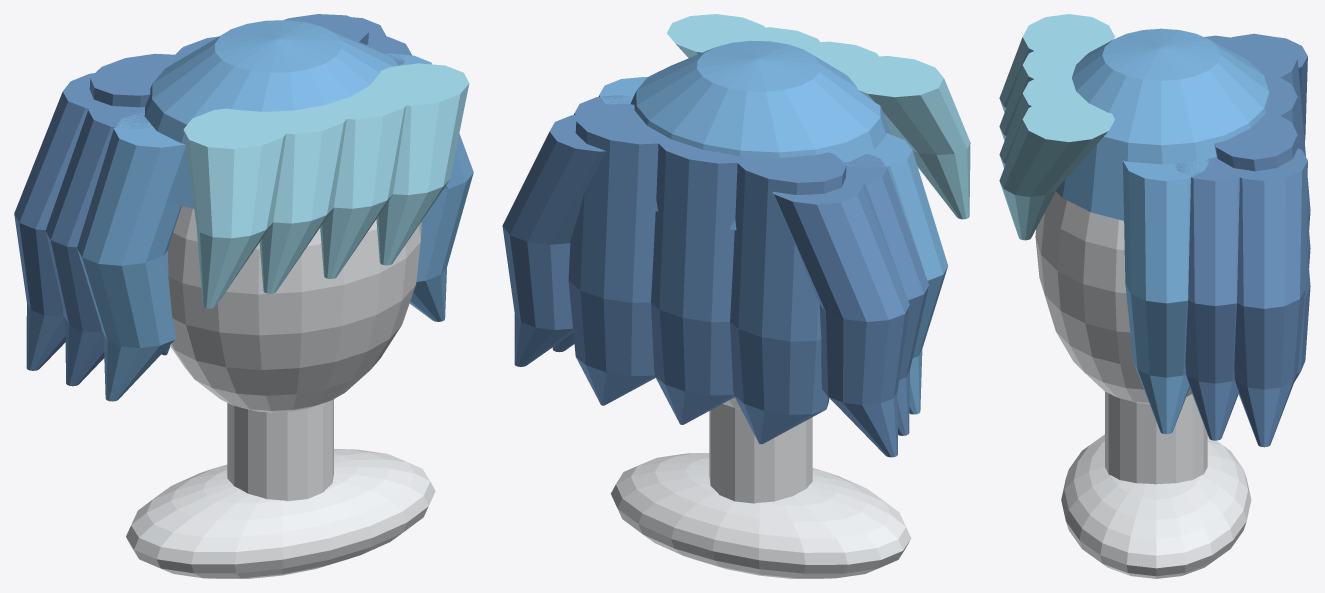
The picture shows the model from 3 angles, left to right: view 1: azimuth 30°, elevation 25°; view 2: azimuth 150°, elevation 25°; view 3: azimuth 270°, elevation 25°; orthographic projection. The views are drawn at different scales.
Parts seen in each view (by area): view 1: Cabeça de encaixe, Base de apresentação, Mecha lateral, Coroa, Franja, Franja.003, Franja.001, Franja.002, Mecha lateral.002, Mecha lateral.001, Pescoço de referência, Mecha lateral.003 (+3 smaller); view 2: Base de apresentação, Coroa, Mecha posterior, Mecha posterior.002, Mecha posterior.001, Mecha lateral.002, Mecha lateral.005, Franja, Pescoço de referência, Mecha lateral.001, Mecha lateral, Franja.003 (+4 smaller); view 3: Coroa, Base de apresentação, Mecha lateral.005, Mecha lateral.003, Cabeça de encaixe, Mecha lateral.004, Franja.003, Pescoço de referência, Mecha posterior.002, Franja, Mecha posterior, Franja.001 (+3 smaller).
Part boxes in pixels (x1,y1,x2,y2): Cabeça de encaixe: [168, 206, 421, 412]; Base de apresentação: [126, 449, 435, 578]; Mecha lateral: [77, 111, 185, 401]; Coroa: [144, 20, 398, 208]; Franja: [183, 108, 291, 308]; Franja.003: [362, 63, 469, 265]; Franja.001: [244, 99, 352, 293]; Franja.002: [309, 78, 413, 278]; Mecha lateral.002: [14, 73, 126, 370]; Mecha lateral.001: [45, 100, 152, 386]; Pescoço de referência: [227, 399, 333, 501]; Mecha lateral.003: [385, 53, 473, 321]; Base de apresentação: [611, 453, 910, 578]; Coroa: [630, 40, 890, 230]; Mecha posterior: [730, 152, 846, 444]; Mecha posterior.002: [568, 103, 673, 405]; Mecha posterior.001: [651, 133, 737, 424]; Mecha lateral.002: [772, 177, 909, 457]; Mecha lateral.005: [502, 115, 606, 366]; Franja: [840, 56, 970, 219]; Pescoço de referência: [709, 404, 812, 503]; Mecha lateral.001: [842, 154, 928, 435]; Mecha lateral: [847, 133, 948, 414]; Franja.003: [667, 14, 771, 57]; Coroa: [1056, 28, 1270, 220]; Base de apresentação: [1061, 434, 1251, 578]; Mecha lateral.005: [1223, 148, 1307, 447]; Mecha lateral.003: [1123, 159, 1209, 434]; Cabeça de encaixe: [1035, 191, 1191, 403]; Mecha lateral.004: [1174, 157, 1252, 440]; Franja.003: [999, 97, 1114, 240]; Pescoço de referência: [1105, 391, 1207, 484]; Mecha posterior.002: [1214, 111, 1310, 381]; Franja: [999, 14, 1114, 112]; Mecha posterior: [1219, 33, 1310, 229]; Franja.001: [999, 42, 1096, 140].
Bounding box in the file's own units: 1.76 × 2.11 × 1.21.
